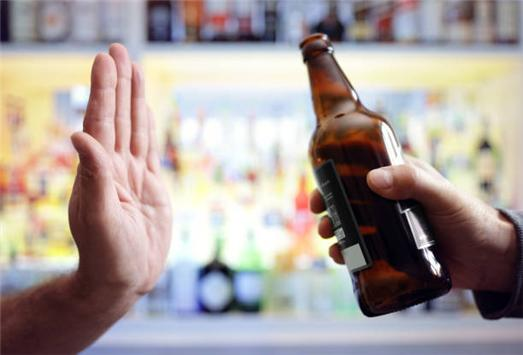alcohol: (297, 32, 453, 315)
